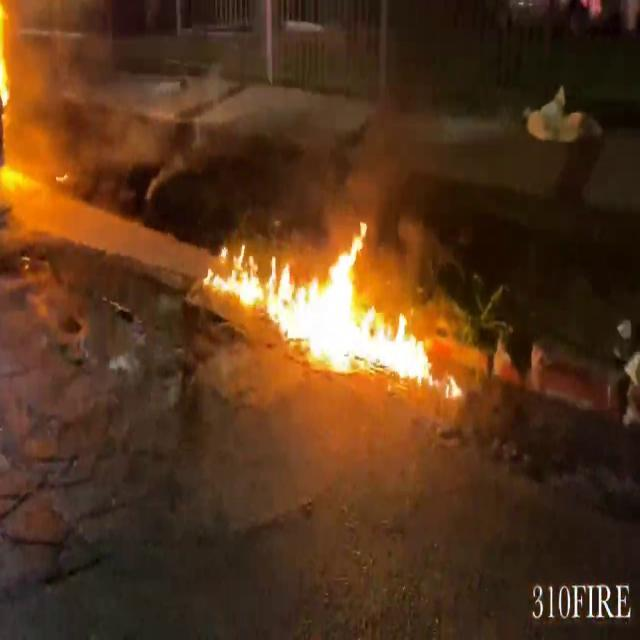Fire: (206, 222, 448, 382), (0, 2, 28, 187)
